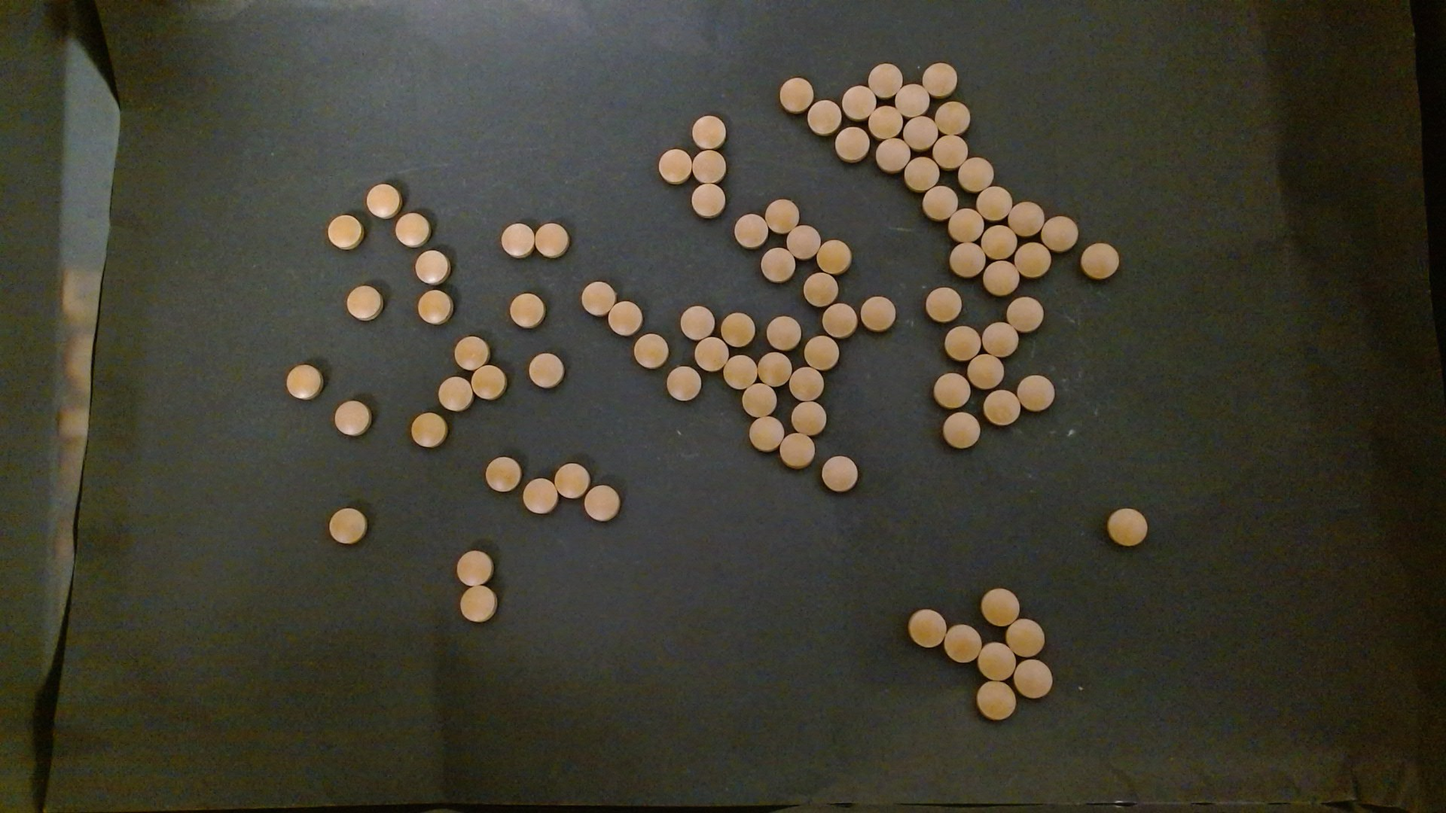Circle: (327, 505, 368, 546), (1012, 659, 1053, 699), (1107, 507, 1148, 547), (908, 608, 947, 648), (980, 587, 1019, 627), (976, 681, 1016, 720), (1005, 618, 1045, 656), (1079, 242, 1118, 280), (977, 641, 1014, 681), (1016, 373, 1054, 411), (932, 372, 970, 410), (942, 412, 981, 449), (944, 624, 981, 663), (820, 455, 858, 492), (334, 400, 372, 437), (459, 585, 496, 623), (1006, 295, 1044, 332), (949, 240, 986, 278), (410, 411, 447, 448), (584, 485, 621, 522), (1014, 241, 1050, 279), (346, 285, 383, 321), (983, 389, 1020, 425), (285, 364, 322, 400), (925, 286, 961, 323), (1042, 215, 1078, 252), (982, 321, 1018, 358), (943, 325, 980, 361), (414, 248, 450, 284), (456, 550, 492, 586), (509, 292, 545, 328), (471, 364, 507, 400), (779, 433, 815, 469), (395, 212, 431, 248), (860, 296, 896, 332), (790, 400, 826, 436), (803, 271, 839, 307), (982, 260, 1018, 296), (1009, 200, 1045, 236), (874, 137, 910, 173), (841, 84, 877, 120), (416, 289, 453, 324), (453, 335, 490, 370), (366, 182, 401, 219), (922, 184, 957, 221), (903, 156, 938, 193), (485, 456, 520, 492), (554, 462, 589, 498), (528, 352, 563, 388), (534, 221, 569, 257), (633, 333, 668, 369), (749, 416, 784, 452), (327, 214, 363, 249), (657, 148, 692, 184), (967, 353, 1003, 388), (804, 334, 839, 370), (958, 157, 993, 193), (921, 61, 957, 96), (935, 100, 971, 135), (902, 114, 937, 150), (977, 185, 1012, 221), (779, 76, 813, 113), (522, 478, 557, 513), (760, 247, 795, 282), (816, 239, 851, 274), (691, 114, 726, 149), (691, 148, 726, 183), (679, 305, 714, 340), (766, 315, 801, 350), (720, 312, 755, 347), (981, 224, 1016, 259), (947, 207, 982, 242), (932, 134, 967, 169), (438, 376, 472, 412), (691, 182, 725, 218), (733, 212, 767, 248), (834, 125, 868, 161), (742, 382, 776, 418), (694, 336, 728, 372), (868, 62, 902, 98), (667, 366, 701, 401), (500, 222, 534, 257), (757, 352, 792, 386), (789, 366, 824, 400), (822, 303, 857, 337), (765, 198, 799, 233), (786, 224, 820, 259), (895, 82, 929, 117), (581, 281, 615, 315), (609, 300, 642, 335), (723, 355, 756, 389), (868, 105, 900, 139), (807, 100, 839, 133)
